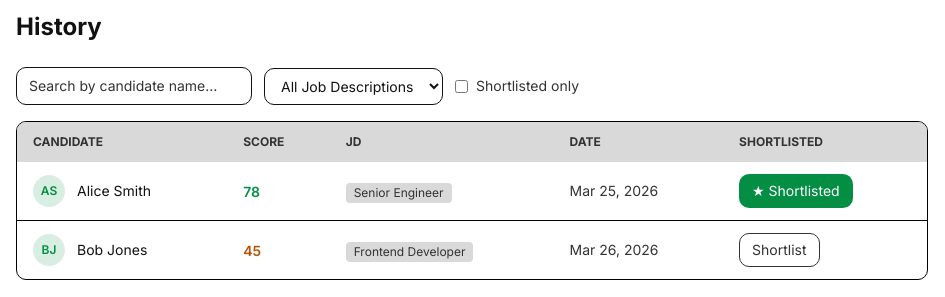
Test case: CandidateHistoryTable › filter_by_jd_shows_matching_rows_only
Select "Senior Engineer" in the dropdown named "Filter by job description" at [354, 86], box [264, 68, 443, 104]
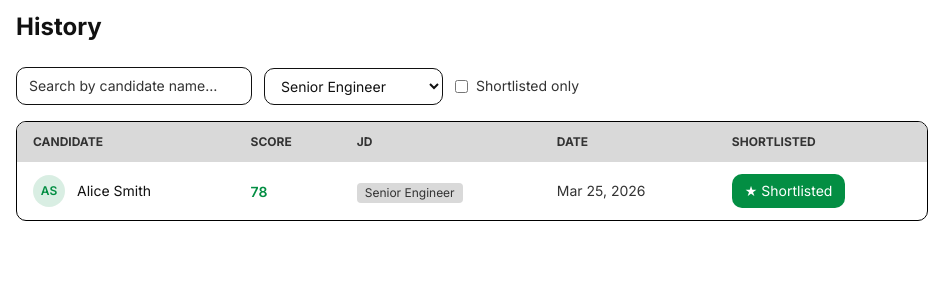
Expected: the text "Alice Smith" is shown, [77, 181, 151, 201]
Result: the text "Bob Jones" is gone
